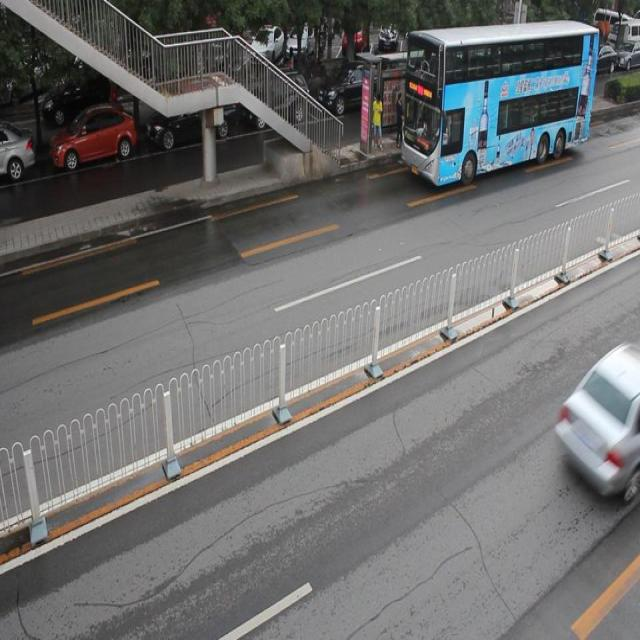car: (550, 339, 640, 501), (50, 105, 136, 172), (145, 93, 237, 152), (314, 63, 389, 123), (244, 72, 307, 128), (1, 124, 34, 181)
van: (398, 21, 597, 188)
